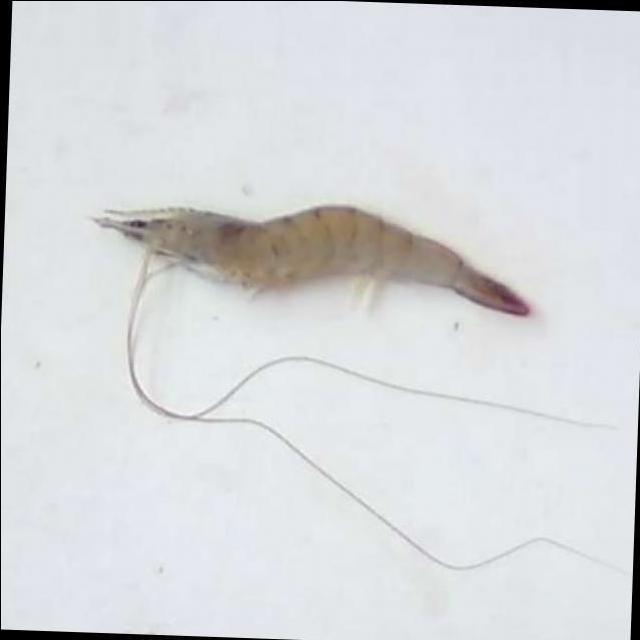shrimp: (93, 206, 530, 315)
